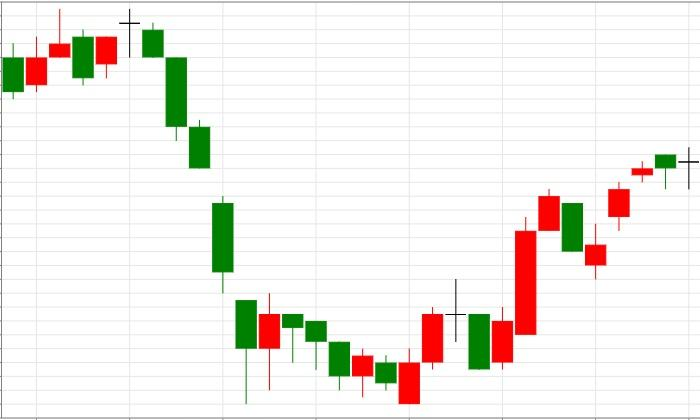bullish_engulfing_rise: (282, 314, 419, 404)
